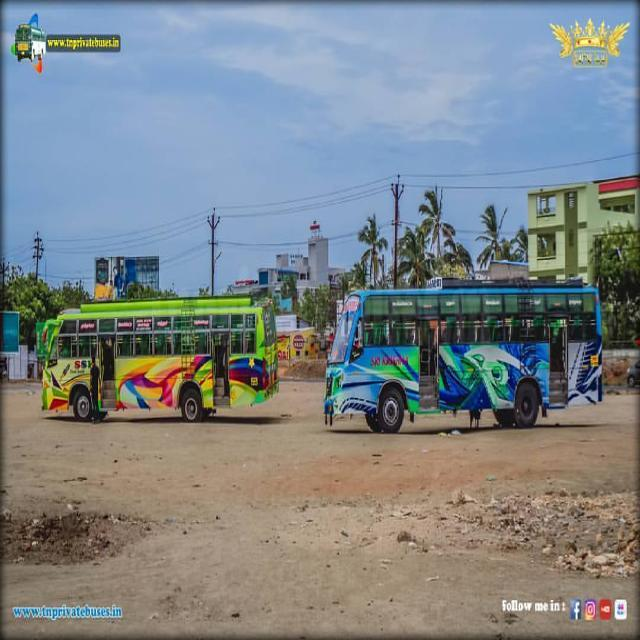Bus: (320, 268, 606, 438), (38, 293, 279, 432)
